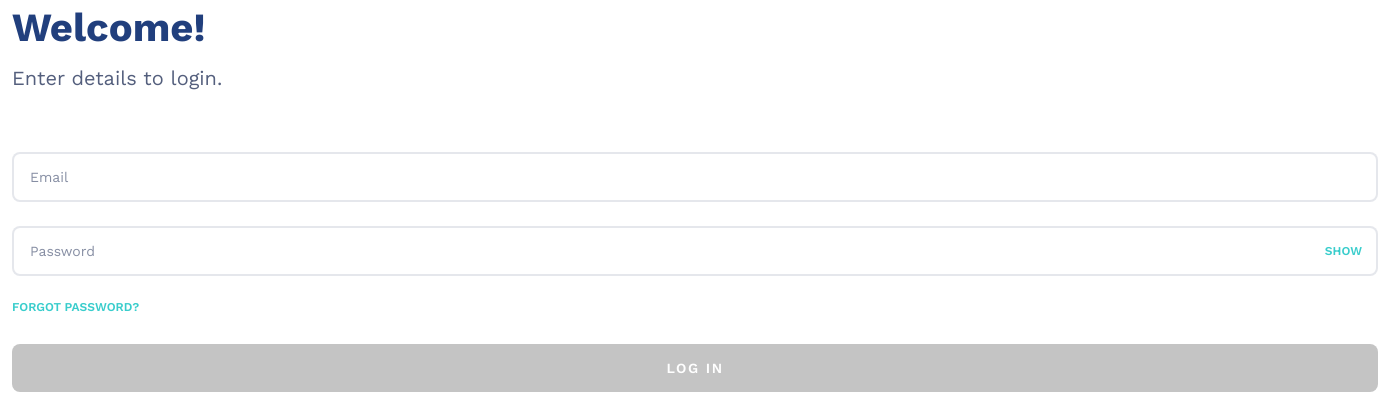
Test: LoginForm › enables login button when fields are filled
Type "test@example.com" into the field with placeholder "Email". click: [695, 177]
box: [12,152,1378,202]
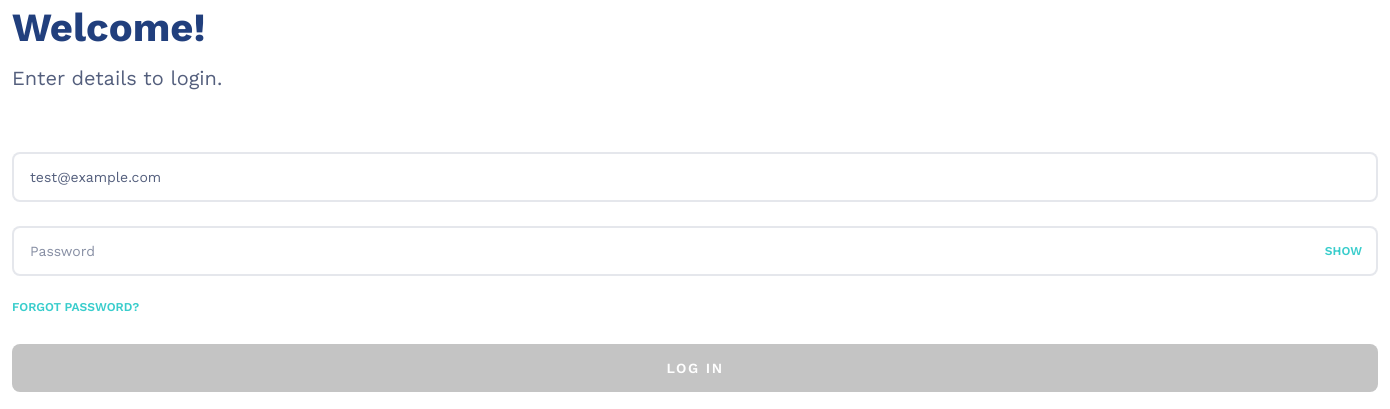
Type "password123" into the password field with placeholder "Password". click: [695, 251]
box: [12,226,1378,276]
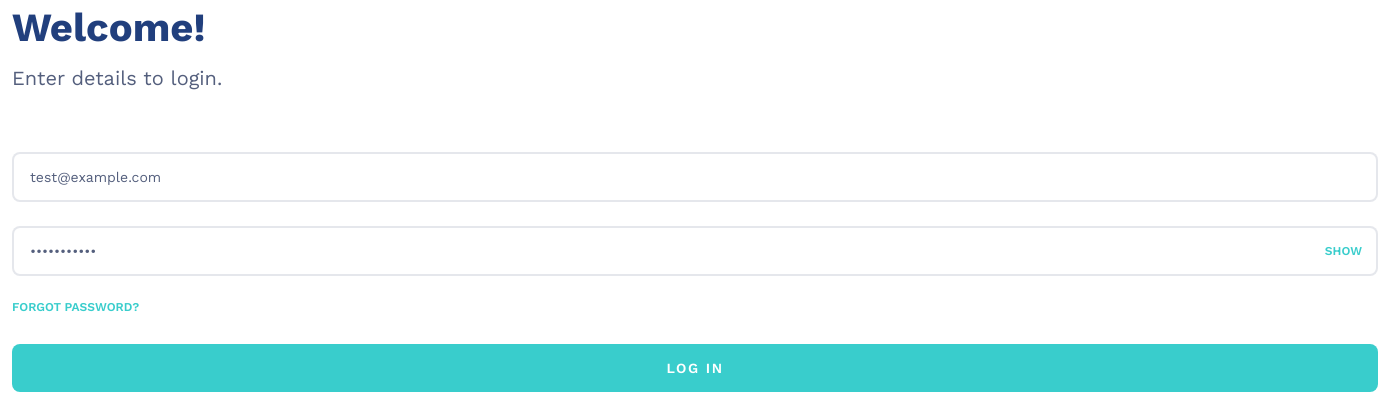
Expected: the button "LOG IN" is enabled, [12,344,1378,392]
